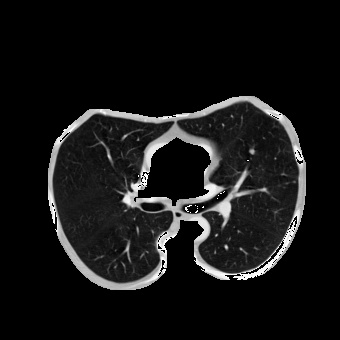PN: (248, 147, 256, 155)
